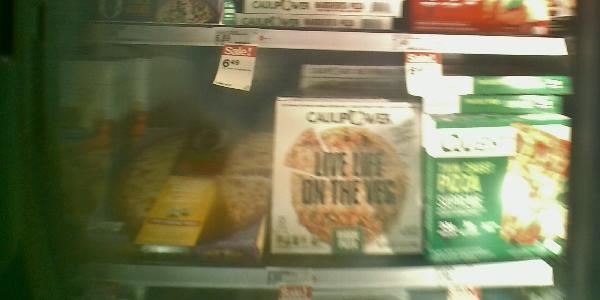pizza: (276, 95, 421, 261), (430, 115, 570, 263), (123, 128, 276, 261)
pizza1: (52, 57, 118, 263), (422, 74, 573, 97), (424, 93, 564, 117), (299, 78, 421, 98), (300, 63, 406, 82)
